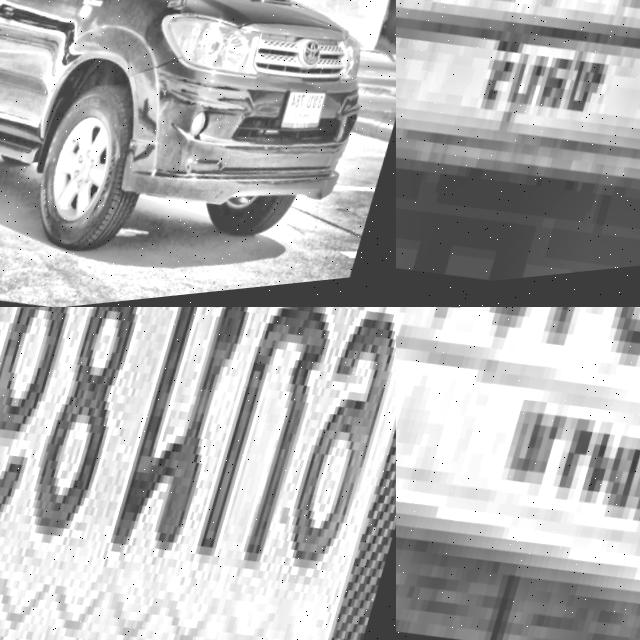license-plate: (0, 307, 396, 640), (396, 307, 640, 640), (396, 0, 640, 288), (280, 92, 338, 153)
